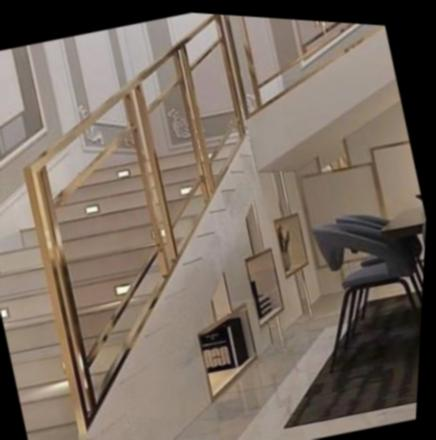Bench: (0, 104, 338, 440)
